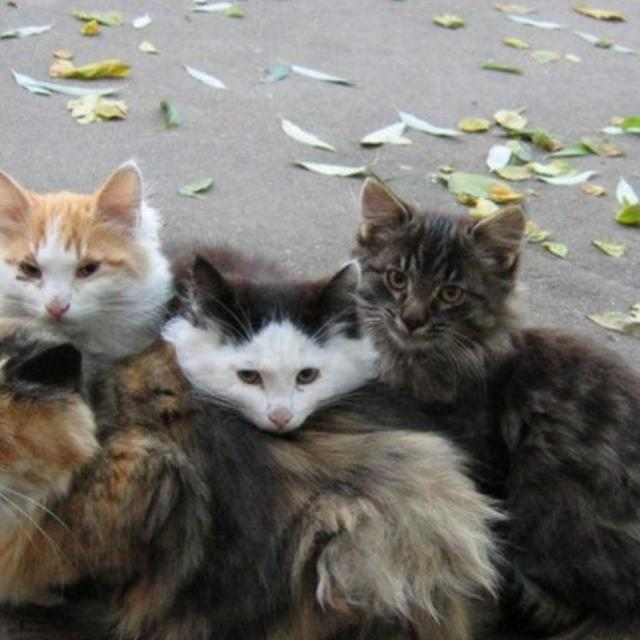animals: (0, 160, 187, 355), (172, 258, 379, 434), (343, 183, 526, 343), (0, 292, 94, 528)
